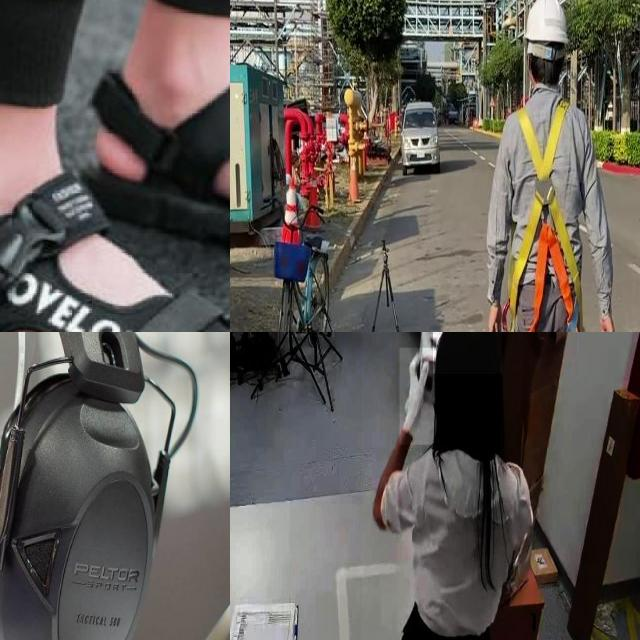Ear-protection: (0, 388, 160, 640)
Harness: (503, 172, 581, 332), (518, 102, 568, 178)
Sandals: (31, 12, 230, 316), (0, 128, 230, 332)
hand_glove: (400, 348, 434, 444)
head_nohelmet: (433, 332, 502, 374)
person: (361, 332, 534, 640)
